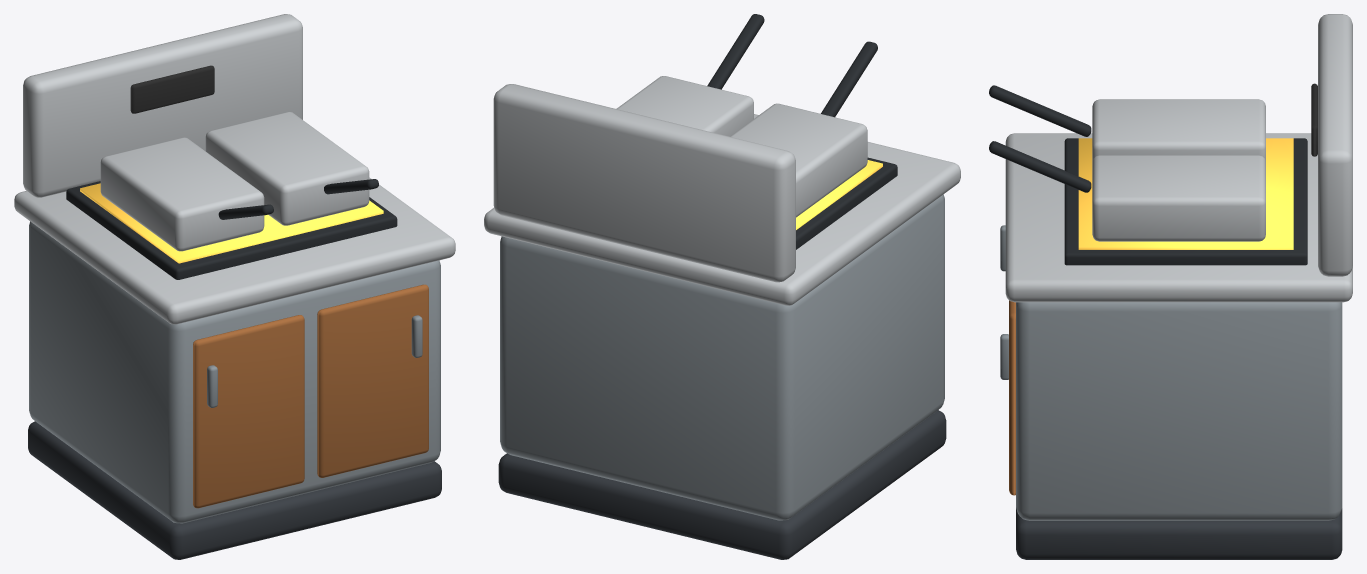
File: st_fryer.glb
The picture shows the model from 3 angles, left to right: view 1: azimuth 30°, elevation 25°; view 2: azimuth 150°, elevation 25°; view 3: azimuth 270°, elevation 25°; orthographic projection. The views are drawn at different scales.
Parts seen in each view (by area): view 1: fryer; view 2: fryer; view 3: fryer.
Part boxes in pixels (<box>): fryer: <box>14,14,455,559</box>; fryer: <box>484,14,960,559</box>; fryer: <box>989,14,1352,559</box>.
Bounding box in the file's own units: 1.04 × 1.3 × 1.05.
3 materials, 3 textured.
